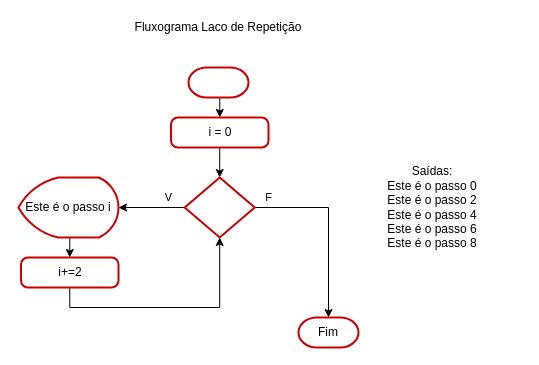
Image size: 539x365. Some labels were removed from this diagram. Each missing label, with the box of its shape:
i < 10: (183, 176, 255, 238)
Início: (187, 66, 249, 98)
